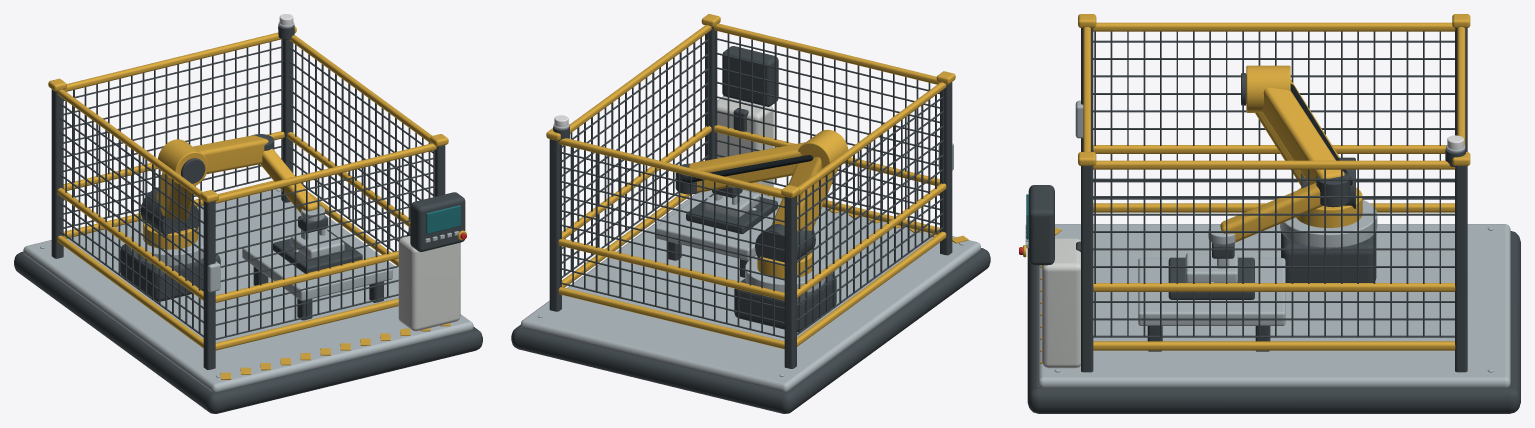
The model's file is robot.glb.
The picture shows the model from 3 angles, left to right: view 1: azimuth 30°, elevation 25°; view 2: azimuth 150°, elevation 25°; view 3: azimuth 270°, elevation 25°; orthographic projection. The views are drawn at different scales.
Parts seen in each view (by area): view 1: Reinforced equipment bed, Cast steel work-cell plinth, Robot controller cabinet, Assembly fixture worktable, Operator console housing, Cage corner post.001, Cage corner post, Forearm casting, Yellow safety crossrail.002, Robot pedestal, Yellow safety crossrail.005, Yellow safety crossrail (+31 smaller); view 2: Reinforced equipment bed, Cast steel work-cell plinth, Assembly fixture worktable, Operator console housing, Forearm casting, Robot pedestal, Cage corner post.001, Robot controller cabinet, Cage corner post.003, Yellow safety crossrail.003, Cage corner post, Yellow safety crossrail.004 (+33 smaller); view 3: Reinforced equipment bed, Cast steel work-cell plinth, Assembly fixture worktable, Robot controller cabinet, Side safety crossrail.003, Side safety crossrail.002, Side safety crossrail.005, Forearm casting, Side safety crossrail.004, Robot pedestal, Cage corner post.002, Cage corner post.003 (+39 smaller).
Boxes of the visible parts, <box> form: Reinforced equipment bed: <box>23,189,473,392</box>; Cast steel work-cell plinth: <box>14,251,482,413</box>; Robot controller cabinet: <box>398,236,460,331</box>; Assembly fixture worktable: <box>242,226,392,301</box>; Operator console housing: <box>410,192,465,251</box>; Cage corner post.001: <box>51,89,63,258</box>; Cage corner post: <box>203,200,215,369</box>; Forearm casting: <box>193,135,268,174</box>; Yellow safety crossrail.002: <box>215,143,436,203</box>; Robot pedestal: <box>120,244,220,301</box>; Yellow safety crossrail.005: <box>64,32,281,91</box>; Yellow safety crossrail: <box>215,298,398,350</box>; Reinforced equipment bed: <box>521,192,980,391</box>; Cast steel work-cell plinth: <box>511,248,990,413</box>; Assembly fixture worktable: <box>656,190,781,260</box>; Operator console housing: <box>722,46,778,106</box>; Forearm casting: <box>688,142,805,192</box>; Robot pedestal: <box>734,273,836,332</box>; Cage corner post.001: <box>784,196,796,368</box>; Robot controller cabinet: <box>717,96,773,195</box>; Cage corner post.003: <box>549,139,561,311</box>; Yellow safety crossrail.003: <box>558,287,784,349</box>; Cage corner post: <box>940,82,952,255</box>; Yellow safety crossrail.004: <box>558,238,784,300</box>; Reinforced equipment bed: <box>1037,224,1510,387</box>; Cast steel work-cell plinth: <box>1027,231,1520,413</box>; Assembly fixture worktable: <box>1138,258,1285,325</box>; Robot controller cabinet: <box>1041,238,1080,368</box>; Side safety crossrail.003: <box>1093,341,1455,350</box>; Side safety crossrail.002: <box>1093,22,1455,31</box>; Side safety crossrail.005: <box>1093,160,1455,169</box>; Forearm casting: <box>1262,87,1344,184</box>; Side safety crossrail.004: <box>1093,283,1455,291</box>; Robot pedestal: <box>1281,233,1376,282</box>; Cage corner post.002: <box>1081,166,1093,372</box>; Cage corner post.003: <box>1455,166,1467,372</box>.
Size of what is drawn, in the model's own units: 3.45 by 2.56 by 4.42.
